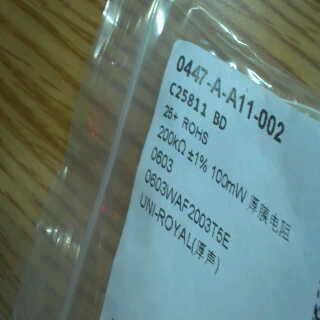200kR: (154, 123, 188, 156)
